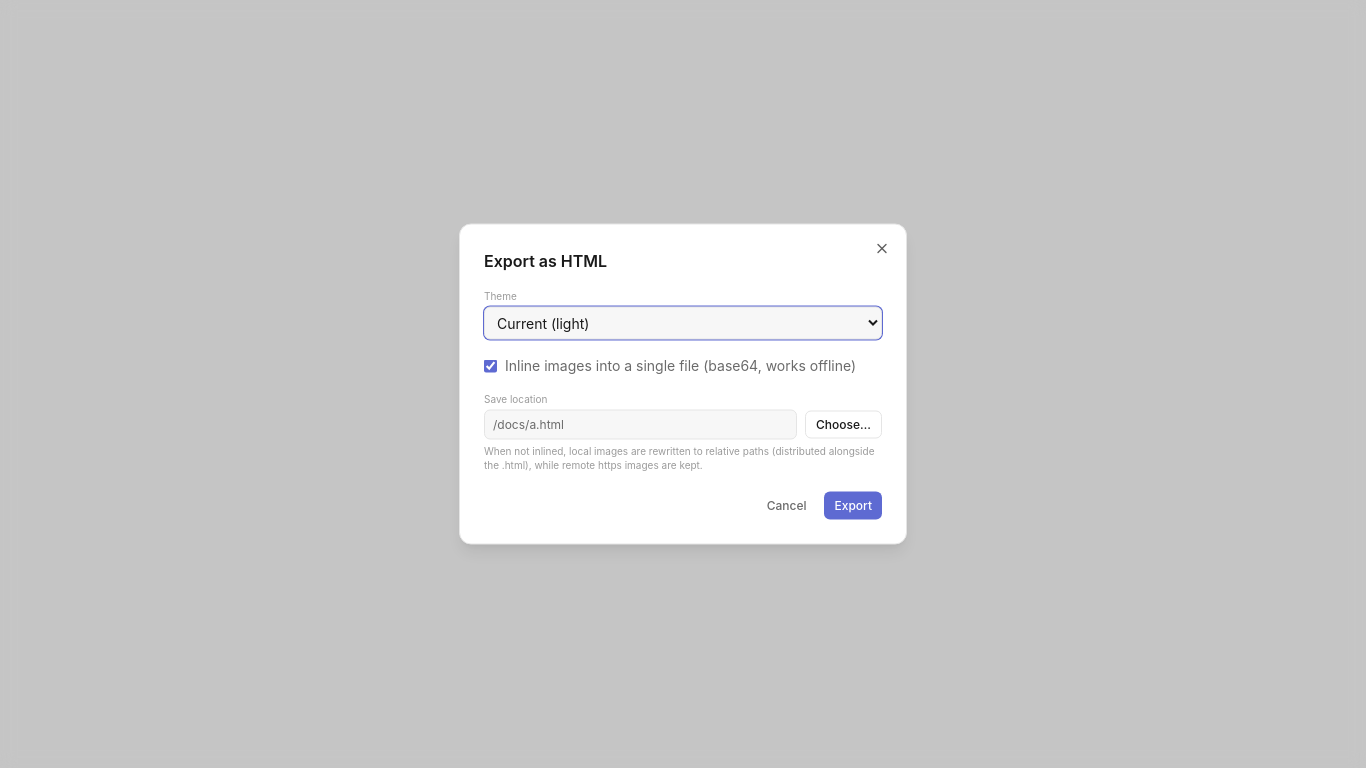
Scenario: ExportDialog › seeds the picker from the document when choosing a path
The width and height of the screenshot is (1366, 768).
Expected: the field showing "/docs/a.html" is shown, x1=484 y1=410 x2=797 y2=440
The "Choose" button runs handlePickPath directly, seeding the dialog from the document.
Click the button "Choose…": click(844, 424) x1=805 y1=410 x2=882 y2=438
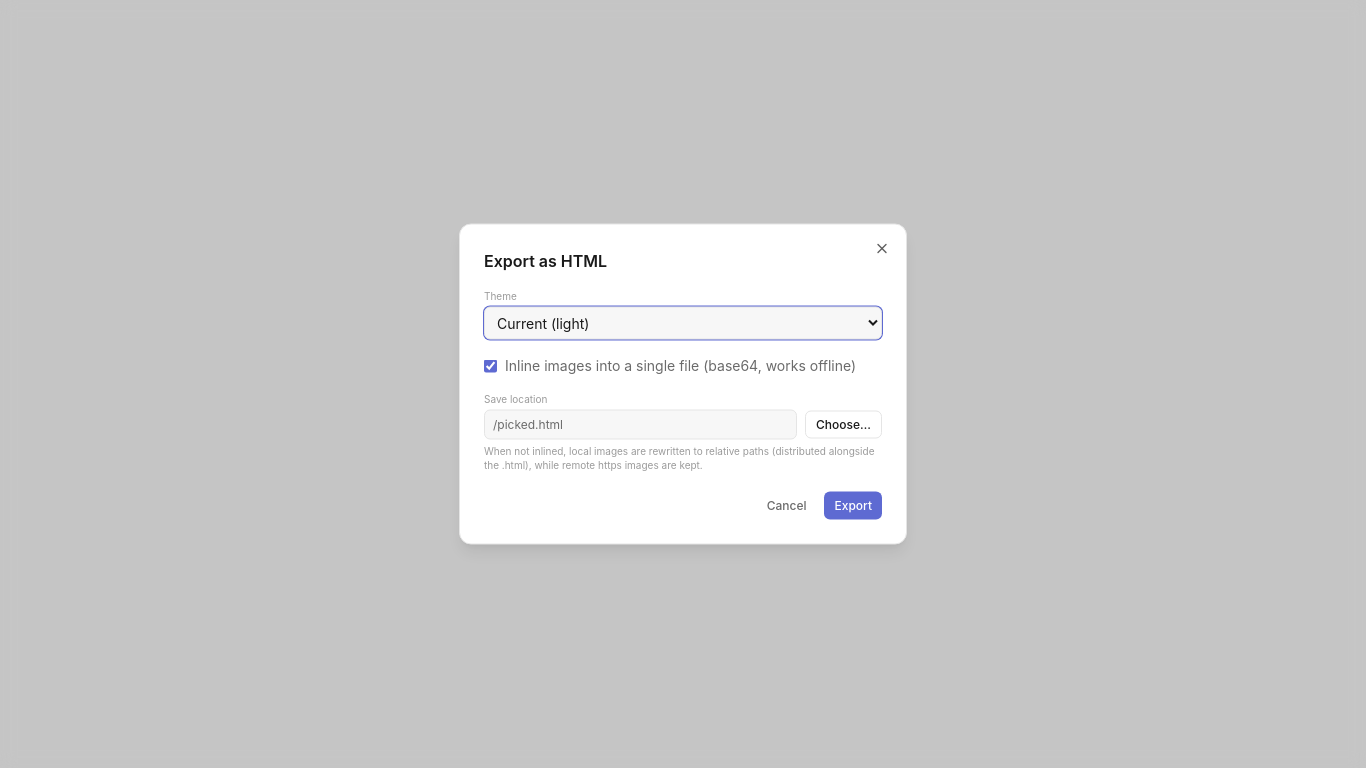
Now the field showing "/picked.html" is shown, box x1=484 y1=410 x2=797 y2=440
